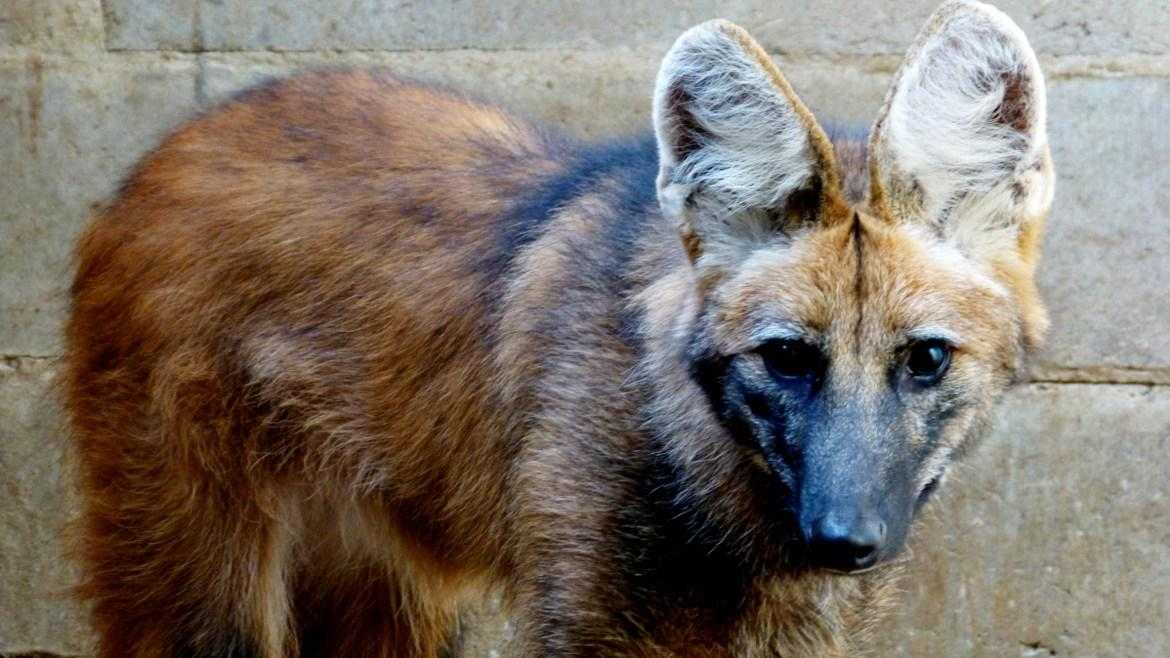LoboGuara: (32, 8, 1071, 634)
